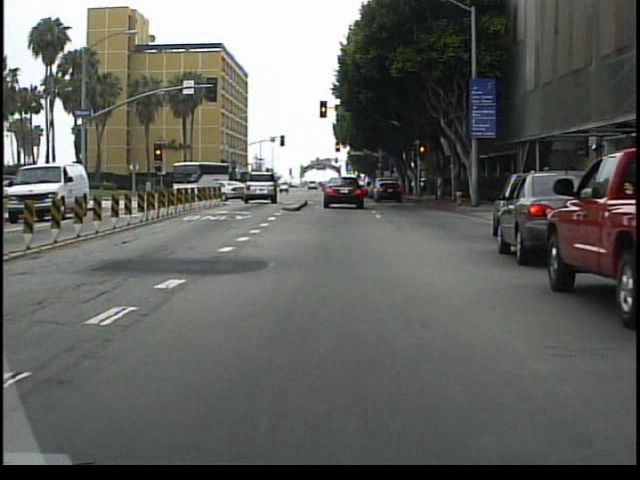person: (64, 174, 77, 210), (56, 174, 69, 209), (41, 171, 54, 204)
